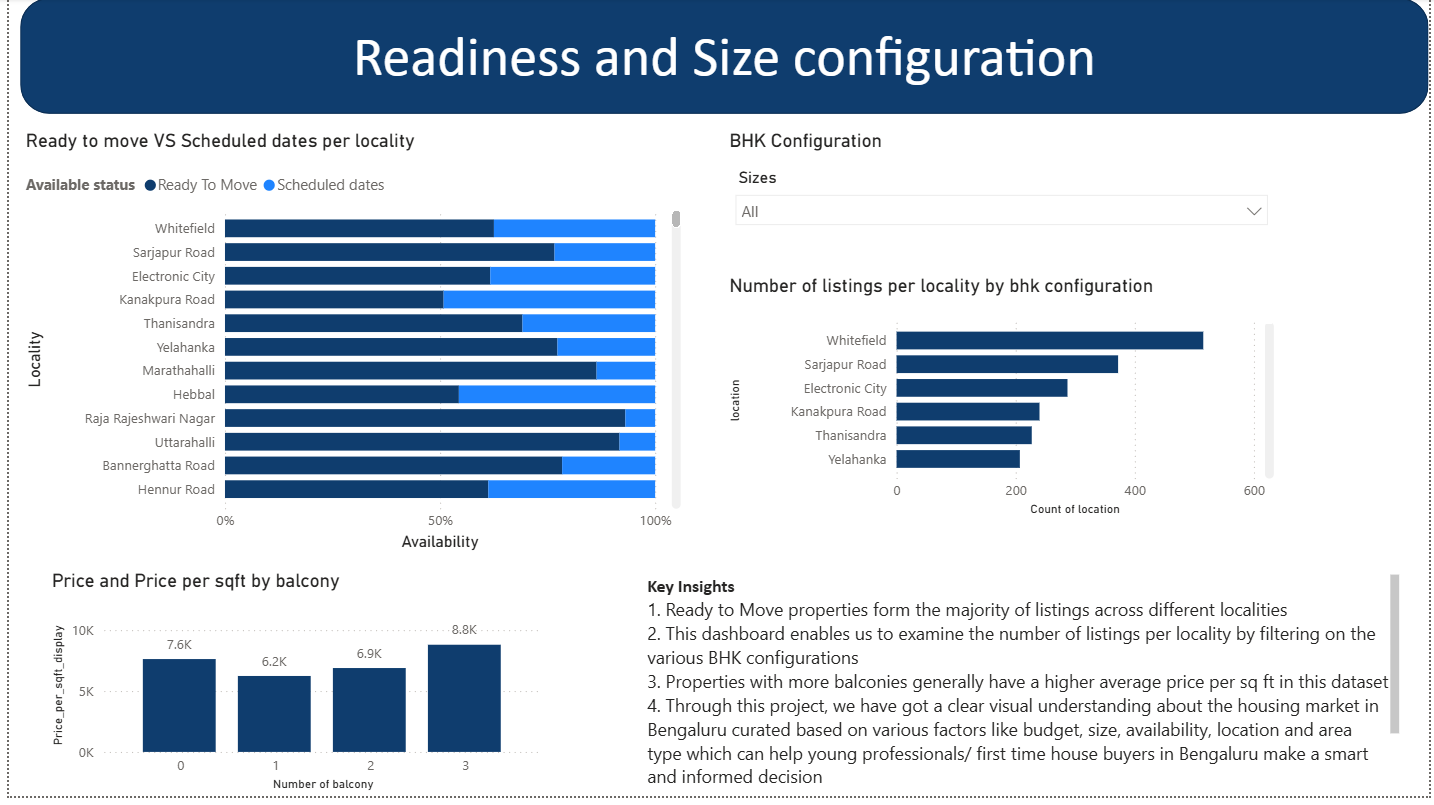

Layout of this report page (visuals, bound fields, positions):
{"tool":"powerbi","page":{"name":"Readiness and size configuration","canvas":[1280,720],"ordinal":2},"visuals":[{"type":"shape","box":[10,0,1270,104.4],"z":0},{"type":"hundredPercentStackedBarChart","title":"Ready to move VS Scheduled dates per locality","fields":{"Category":["house benagluru_house_date_cleaneddataset (2).location"],"Y":["CountNonNull(house benagluru_house_date_cleaneddataset (2).Available status)"],"Series":["house benagluru_house_date_cleaneddataset (2).Available status"]},"box":[10,118.7,600.7,384.7],"z":1},{"type":"clusteredBarChart","title":"Number of listings per locality by bhk configuration","fields":{"Category":["house benagluru_house_date_cleaneddataset (2).location"],"Y":["CountNonNull(house benagluru_house_date_cleaneddataset (2).location)"]},"box":[645,248.8,501,223],"z":2},{"type":"slicer","title":"BHK Configuration","fields":{"Values":["house benagluru_house_date_cleaneddataset (2).Sizes"]},"box":[645,118.7,500.6,103],"z":3},{"type":"clusteredColumnChart","title":"Price and Price per sqft by balcony","fields":{"Category":["house benagluru_house_date_cleaneddataset (2).balcony"],"Y":["house benagluru_house_date_cleaneddataset (2).Price_per_sqft_display"]},"box":[34.3,514.9,451.9,204.5],"z":4},{"type":"textbox","box":[570.6,514.9,687.9,204.5],"z":5}]}

Visuals, with their boxes in screenshot pixels (x1, y1, x2, y2), scaled from the page's 1280x720 canvas onto the 1434x805 screenshot:
shape: {"left": 11, "top": 0, "right": 1433, "bottom": 117}
"Ready to move VS Scheduled dates per locality" hundredPercentStackedBarChart: {"left": 11, "top": 133, "right": 684, "bottom": 563}
"Number of listings per locality by bhk configuration" clusteredBarChart: {"left": 723, "top": 278, "right": 1284, "bottom": 527}
"BHK Configuration" slicer: {"left": 723, "top": 133, "right": 1283, "bottom": 248}
"Price and Price per sqft by balcony" clusteredColumnChart: {"left": 38, "top": 576, "right": 545, "bottom": 804}
textbox: {"left": 639, "top": 576, "right": 1410, "bottom": 804}
